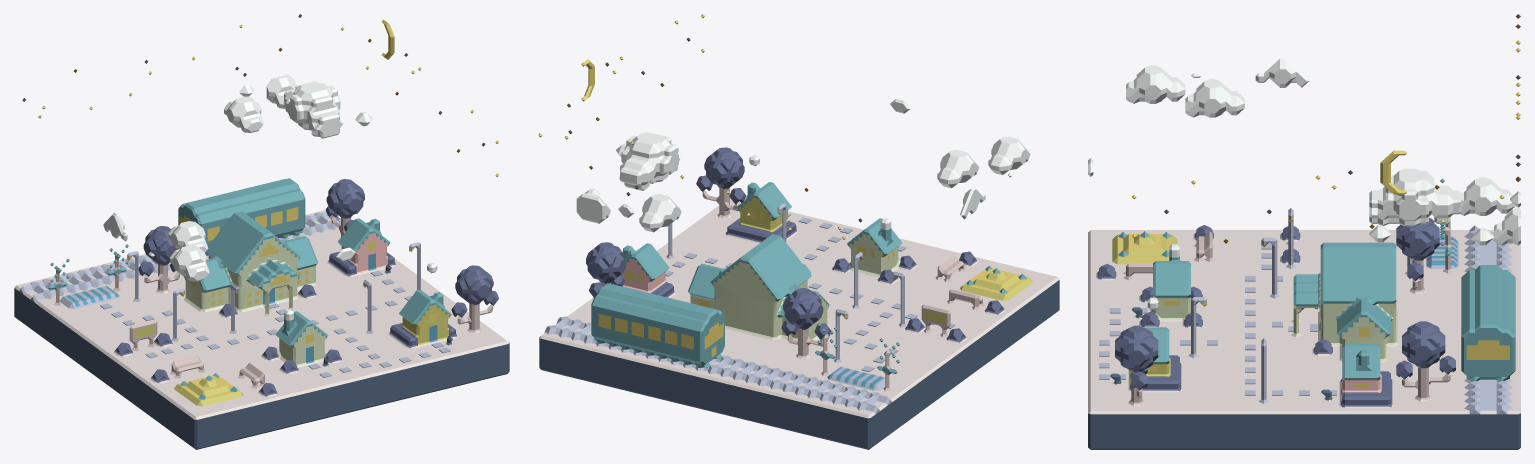
Rendered from streamEndCard_v005.fbx.
The picture shows the model from 3 angles, left to right: view 1: azimuth 30°, elevation 25°; view 2: azimuth 150°, elevation 25°; view 3: azimuth 270°, elevation 25°; orthographic projection. The views are drawn at different scales.
Visible parts, largest first — view 1: polySurface3269, polySurface3268, townhallroof, train_ext, townhall_main, polySurface2534 (×3), rrTracks, cloud_reduce60, polySurface2514 (×2), polySurface2516 (×2), polySurface2487, polySurface2313 (+8 smaller); view 2: polySurface3269, polySurface3268, train_ext, rrTracks, townhall_main, polySurface2534 (×3), townhallroof, cloud_reduce60, polySurface2516 (×2), polySurface2514 (×2), train_windows, polySurface3257 (+8 smaller); view 3: polySurface3269, polySurface3268, townhallroof, train_ext, polySurface2534 (×3), cloud_reduce60, rrTracks, townhall_main, polySurface2516 (×2), polySurface2508 (×2), polySurface2311, polySurface2487 (+14 smaller).
Boxes of the visible parts, box(x1,y1,x2,y2) form: polySurface3269: box(14, 210, 509, 419); polySurface3268: box(14, 288, 509, 449); townhallroof: box(184, 211, 317, 292); train_ext: box(178, 178, 305, 255); townhall_main: box(184, 237, 316, 316); polySurface2534 (×3): box(143, 179, 493, 304); rrTracks: box(19, 212, 340, 302); cloud_reduce60: box(284, 81, 343, 138); polySurface2514 (×2): box(341, 232, 448, 345); polySurface2516 (×2): box(338, 218, 451, 325); polySurface2487: box(169, 245, 209, 281); polySurface2313: box(224, 96, 263, 132); polySurface3269: box(539, 198, 1059, 418); polySurface3268: box(539, 280, 1059, 449); train_ext: box(591, 283, 724, 368); rrTracks: box(544, 316, 891, 414); townhall_main: box(690, 261, 828, 340); polySurface2534 (×3): box(586, 147, 823, 329); townhallroof: box(688, 234, 829, 317); cloud_reduce60: box(619, 132, 682, 190); polySurface2516 (×2): box(623, 182, 791, 280); polySurface2514 (×2): box(621, 197, 788, 293); train_windows: box(598, 313, 723, 357); polySurface3257: box(849, 233, 900, 276); polySurface3269: box(1088, 230, 1520, 414); polySurface3268: box(1088, 413, 1520, 449); townhallroof: box(1293, 242, 1396, 336); train_ext: box(1461, 265, 1515, 381); polySurface2534 (×3): box(1115, 217, 1445, 372); cloud_reduce60: box(1369, 168, 1461, 226); rrTracks: box(1464, 225, 1512, 414); townhall_main: box(1292, 272, 1397, 361); polySurface2516 (×2): box(1144, 327, 1380, 379); polySurface2508 (×2): box(1130, 355, 1392, 407); polySurface2311: box(1185, 79, 1244, 117); polySurface2487: box(1126, 65, 1185, 103).
Size of the model in its own units: 82 by 62 by 80.
1 material, 1 textured.
